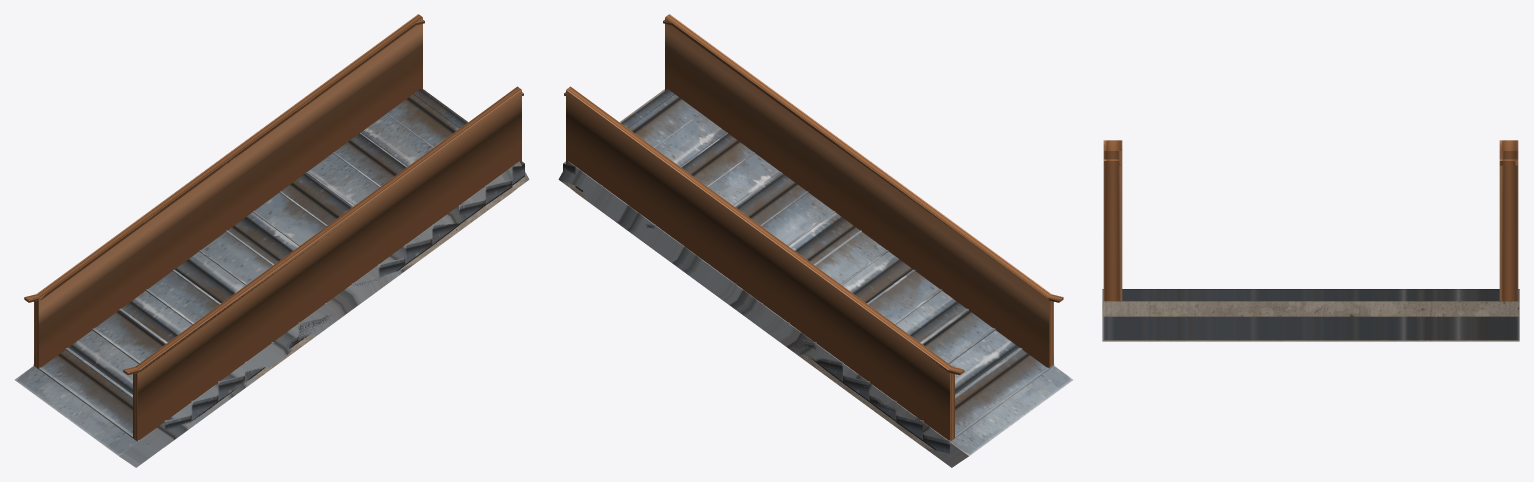
File: stairs03_A.FBX
The picture shows the model from 3 angles, left to right: view 1: azimuth 30°, elevation 25°; view 2: azimuth 150°, elevation 25°; view 3: azimuth 270°, elevation 25°; orthographic projection. The views are drawn at different scales.
Visible parts, largest first — view 1: stairs03_A_COL, stairs03_A_railR_COL, stairs03_A_railL_COL, stairs03_A, stairs03_A_railL, stairs03_A_railR; view 2: stairs03_A_COL, stairs03_A_railL_COL, stairs03_A_railR_COL, stairs03_A, stairs03_A_railR; view 3: stairs03_A_COL, stairs03_A, stairs03_A_railR_COL, stairs03_A_railL_COL.
Boxes of the visible parts, x1=… form: stairs03_A_COL: x1=15, y1=89, x2=529, y2=467; stairs03_A_railR_COL: x1=133, y1=86, x2=521, y2=440; stairs03_A_railL_COL: x1=34, y1=14, x2=422, y2=368; stairs03_A: x1=33, y1=89, x2=524, y2=444; stairs03_A_railL: x1=24, y1=20, x2=424, y2=302; stairs03_A_railR: x1=123, y1=92, x2=523, y2=375; stairs03_A_COL: x1=558, y1=89, x2=1072, y2=467; stairs03_A_railL_COL: x1=566, y1=86, x2=954, y2=440; stairs03_A_railR_COL: x1=665, y1=14, x2=1053, y2=367; stairs03_A: x1=563, y1=89, x2=1054, y2=453; stairs03_A_railR: x1=663, y1=20, x2=1063, y2=302; stairs03_A_COL: x1=1102, y1=289, x2=1519, y2=340; stairs03_A: x1=1102, y1=289, x2=1519, y2=341; stairs03_A_railR_COL: x1=1103, y1=151, x2=1122, y2=300; stairs03_A_railL_COL: x1=1499, y1=151, x2=1518, y2=300.
Size of the model in its own units: 658 by 434 by 290.
